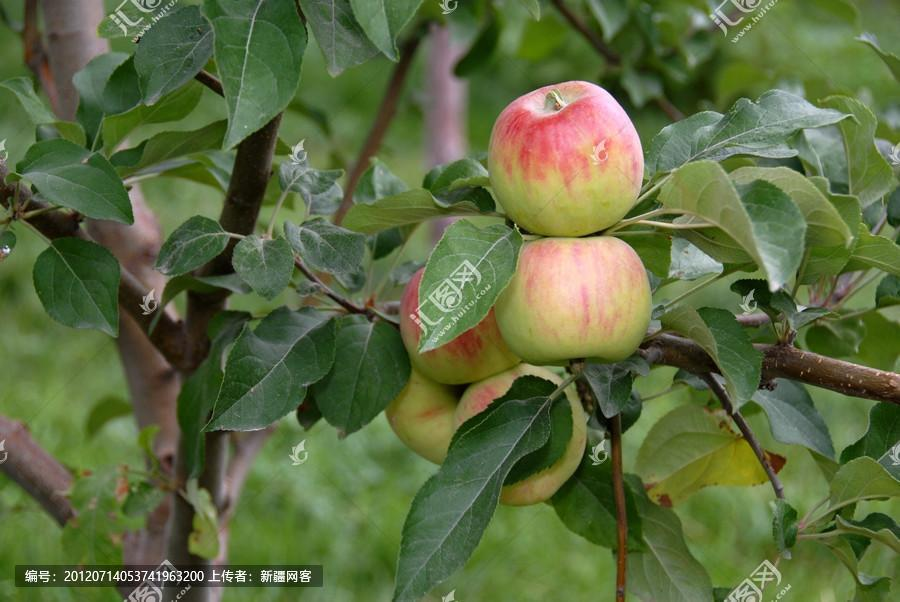apple: (484, 78, 644, 237), (497, 233, 653, 372), (400, 264, 520, 382)
